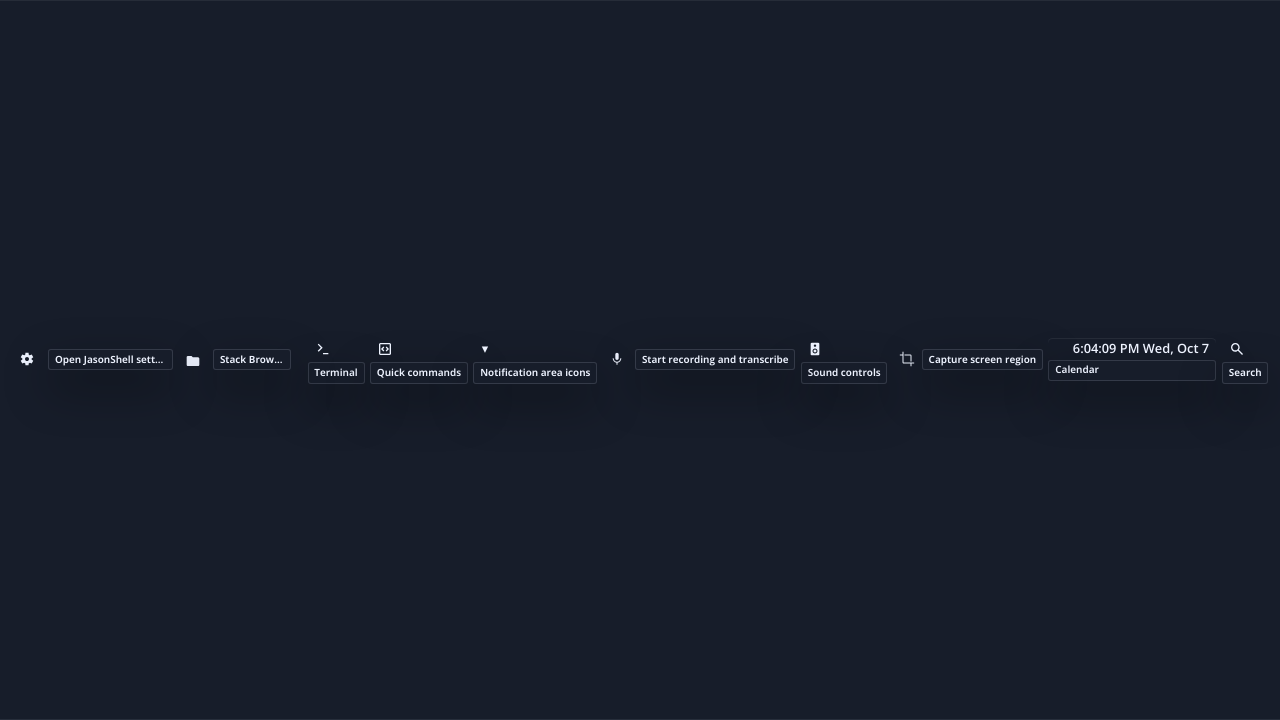
Test: barrier suppresses only real nested Melt tooltips, keeps icons visible, and acks after tick plus frame exactly once
Focus the button named "Capture screen region": (908, 360) x1=893 y1=346 x2=922 y2=373
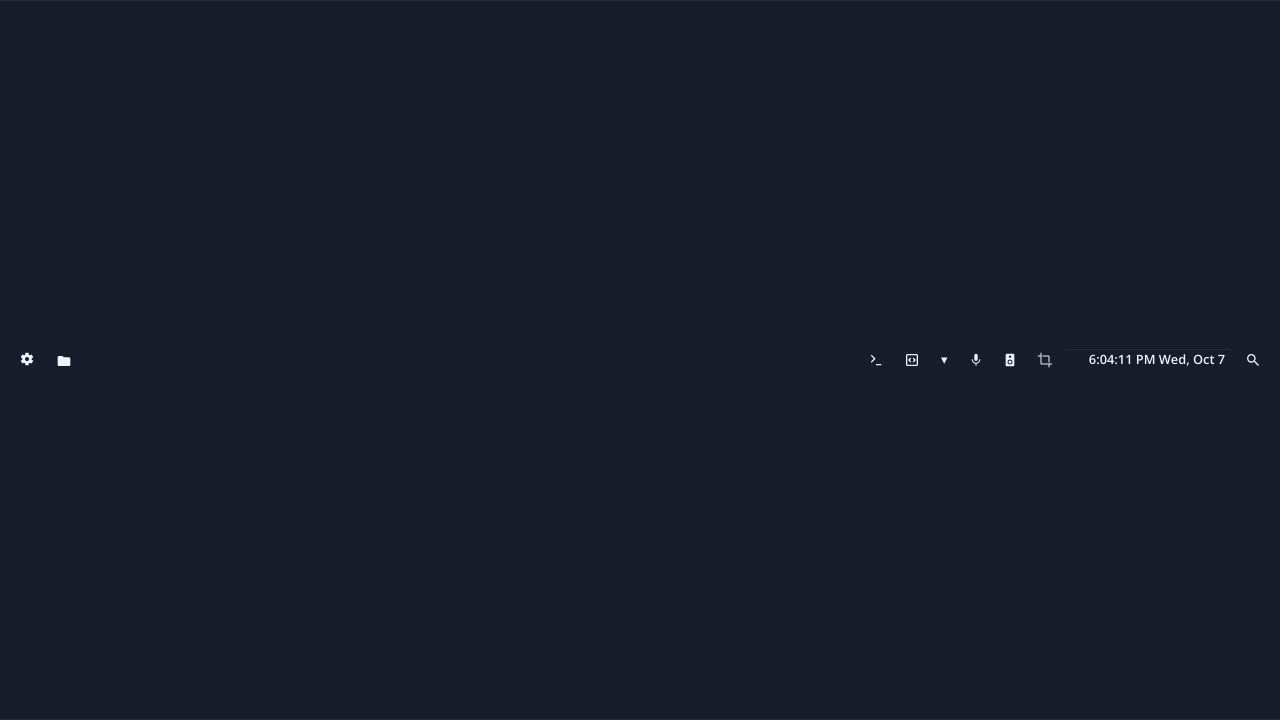
Expected: the button "Capture screen region" is gone
